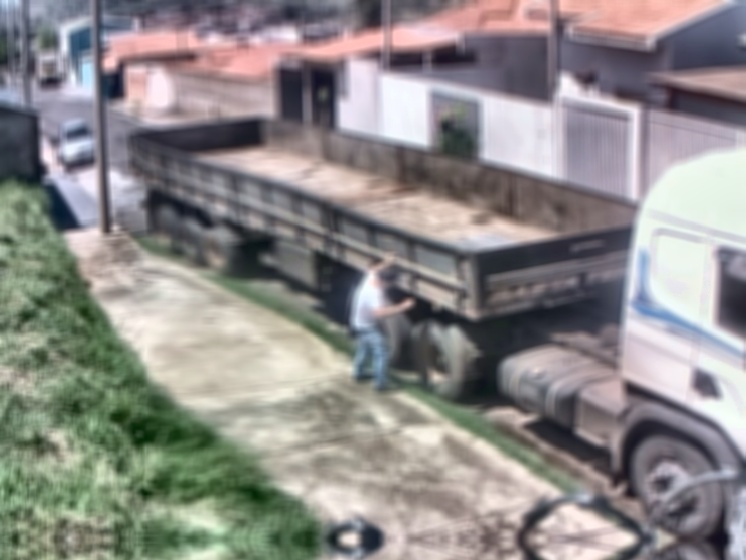person: (351, 251, 417, 395)
